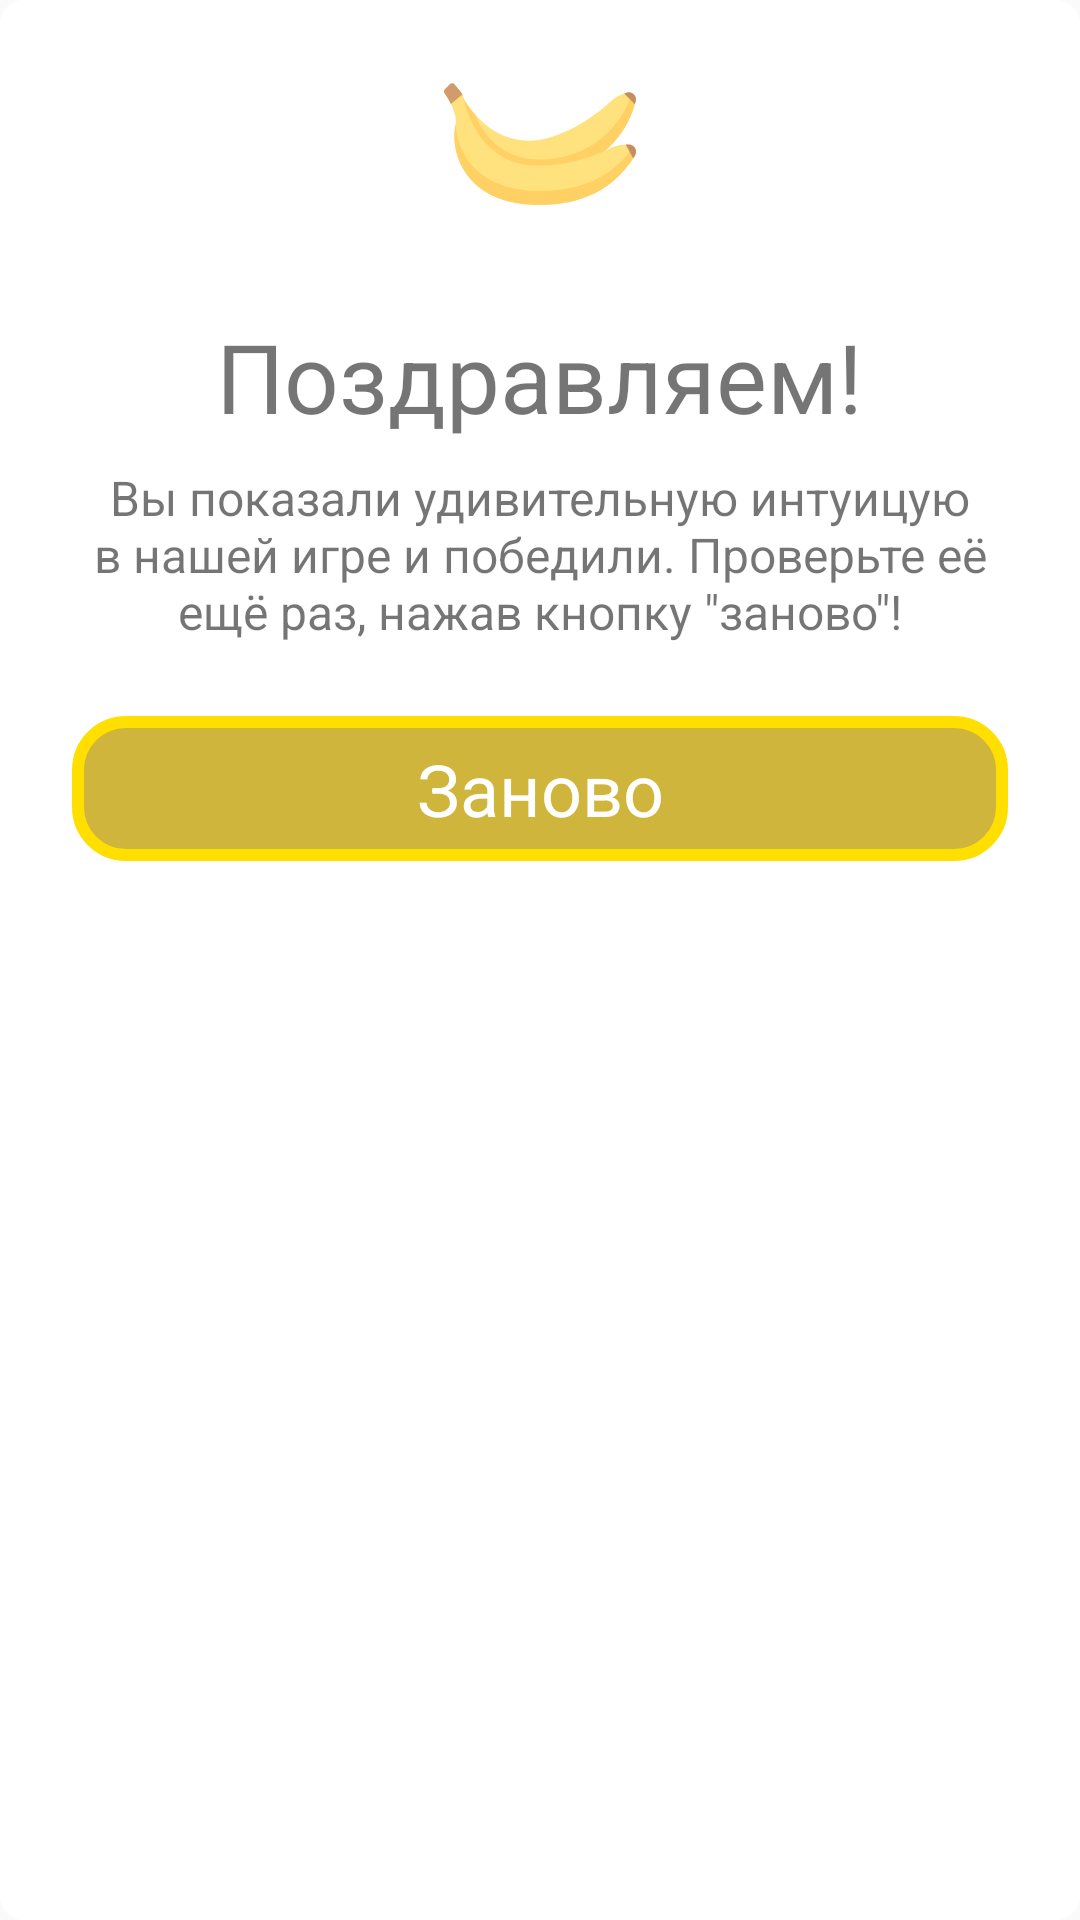

Icon click points for this 1080w x 1920h phone screenshot, format [x,y]:
banana: [540,144]
